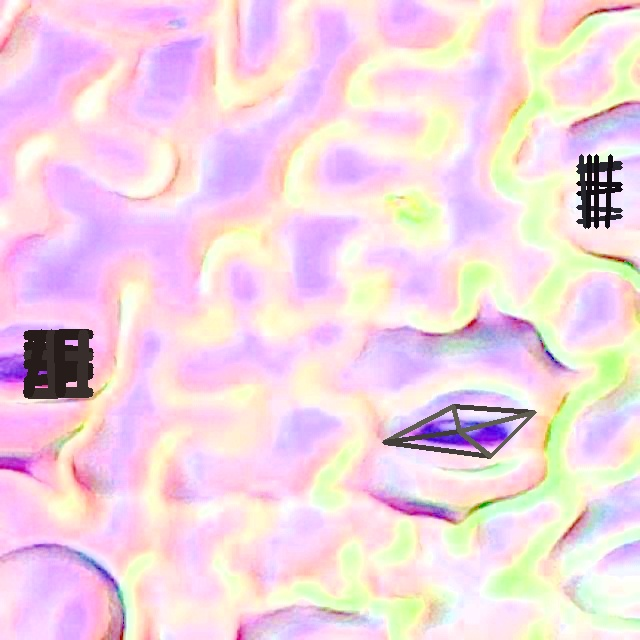close: (577, 155, 621, 228)
open: (382, 405, 536, 457), (23, 330, 92, 396)
